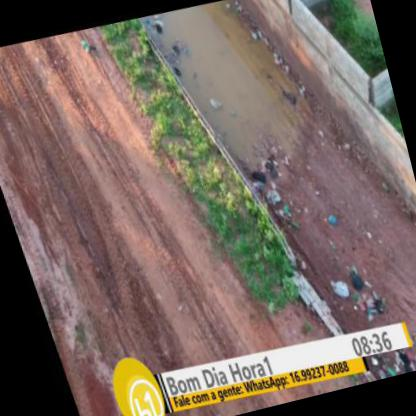agua: (171, 0, 299, 154)
